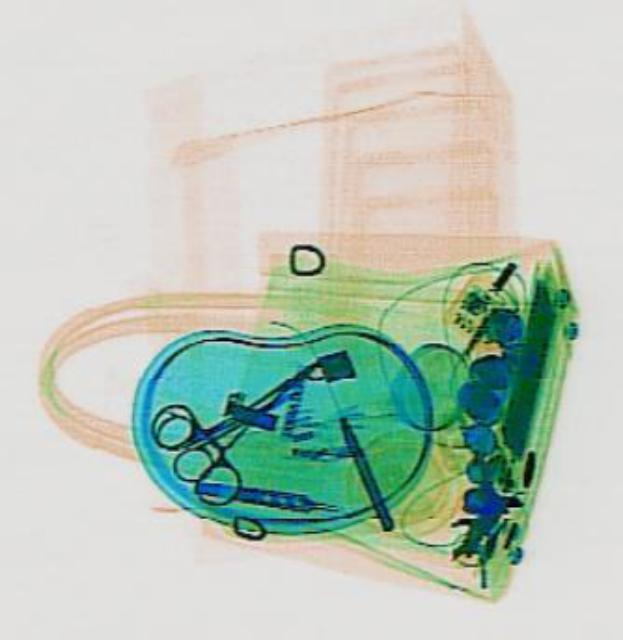Scissors: (137, 322, 358, 512), (143, 353, 306, 485)
